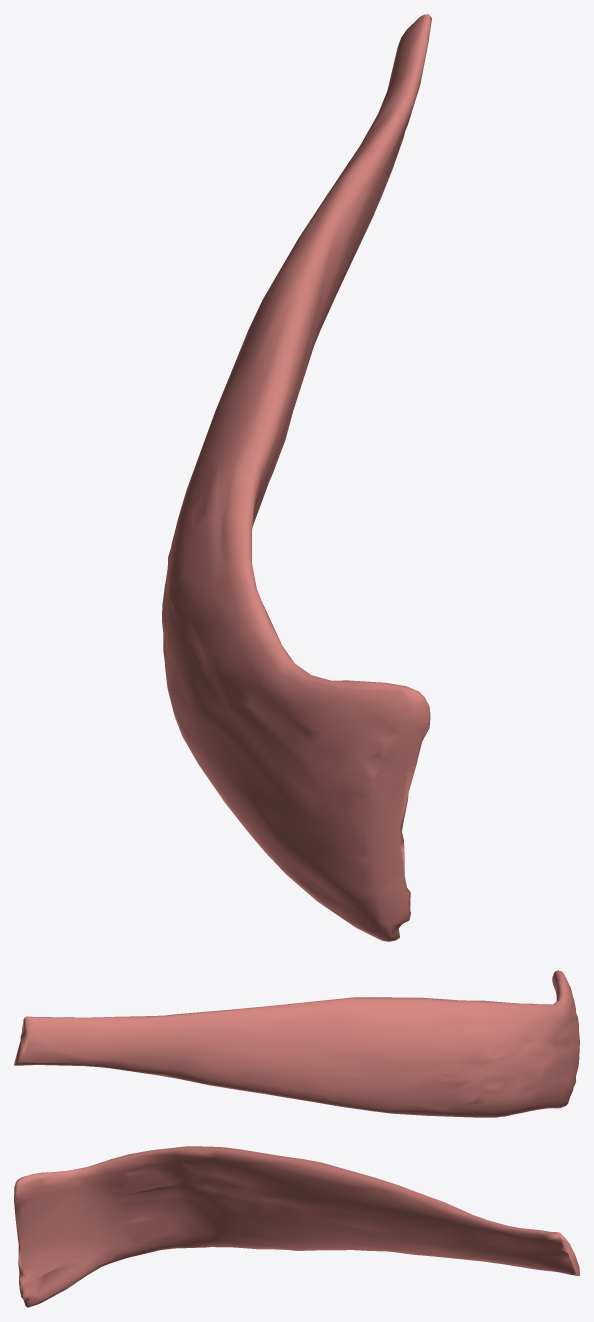
The picture shows the model from 3 angles, top to bottom: view 1: azimuth 30°, elevation 25°; view 2: azimuth 150°, elevation 25°; view 3: azimuth 270°, elevation 25°; orthographic projection. The views are drawn at different scales.
Visible parts, largest first — view 1: ZA_cf9fb2aff4ebd692; view 2: ZA_cf9fb2aff4ebd692; view 3: ZA_cf9fb2aff4ebd692.
Boxes of the visible parts, left/top/right/bottom form: ZA_cf9fb2aff4ebd692: left=162, top=14, right=431, bottom=941; ZA_cf9fb2aff4ebd692: left=14, top=970, right=579, bottom=1117; ZA_cf9fb2aff4ebd692: left=14, top=1146, right=579, bottom=1307.
Size of the model in its own units: 0.0264 by 0.0165 by 0.0398.
